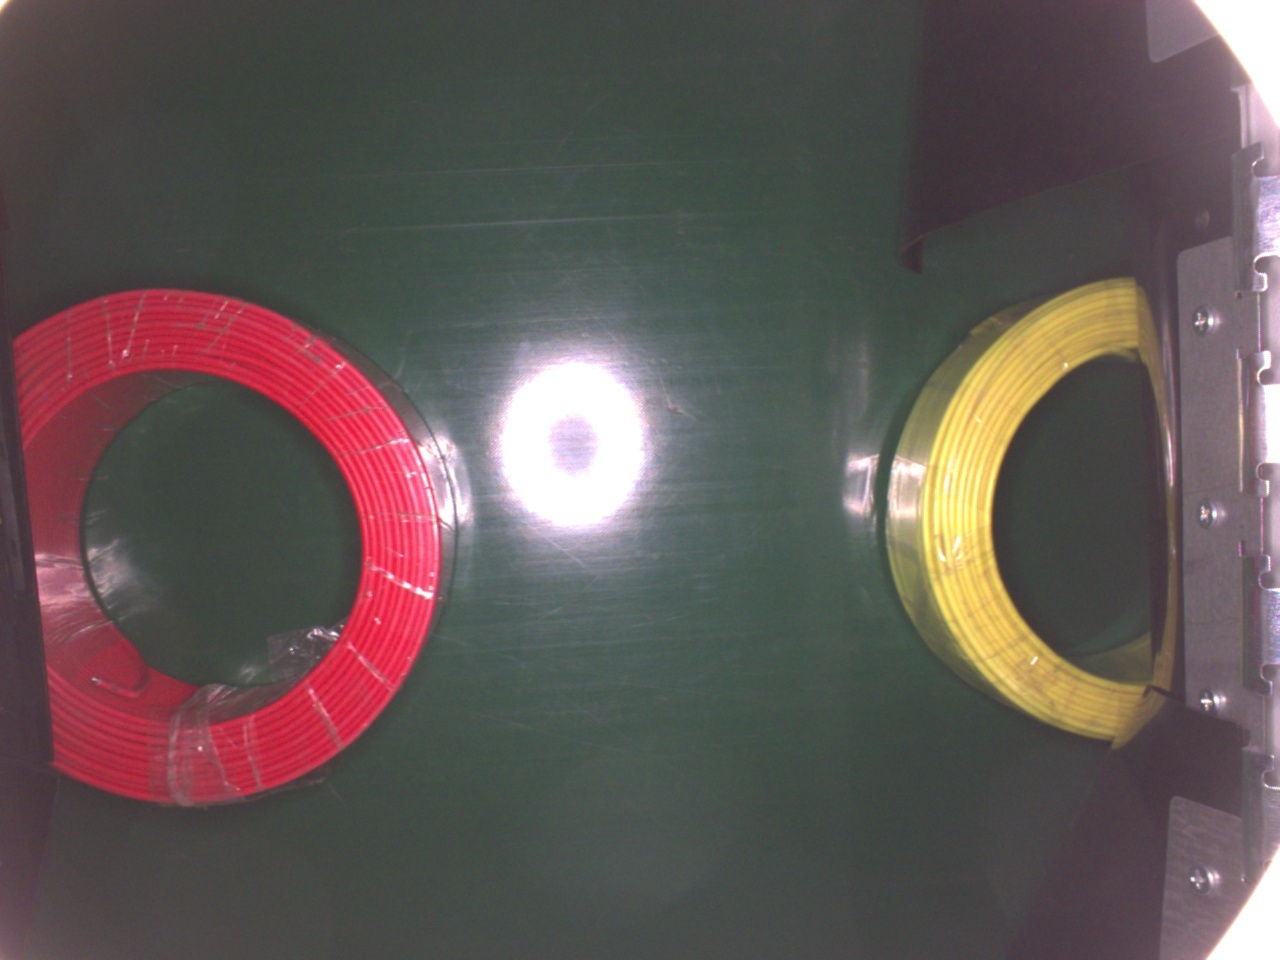red: (12, 281, 455, 810)
yellow: (878, 275, 1140, 743)
